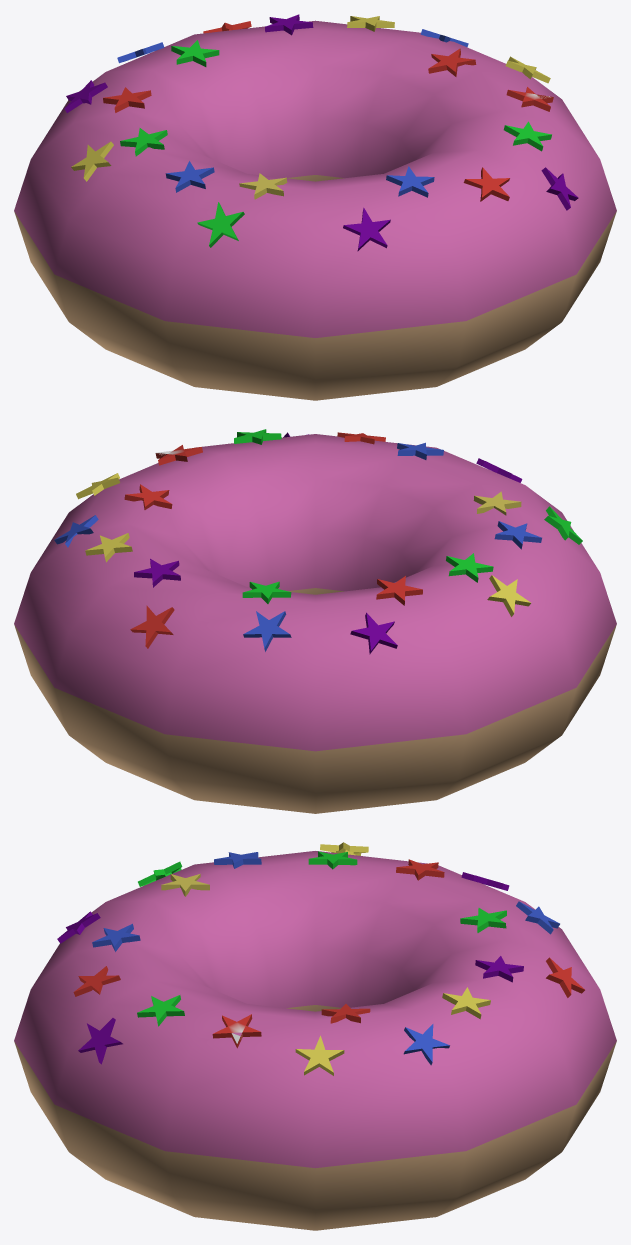
The model's file is DonutPowerUp.fbx.
The picture shows the model from 3 angles, top to bottom: view 1: azimuth 30°, elevation 25°; view 2: azimuth 150°, elevation 25°; view 3: azimuth 270°, elevation 25°; orthographic projection.
Parts seen in each view (by area): view 1: DonutsPowerup; view 2: DonutsPowerup; view 3: DonutsPowerup.
Part boxes in pixels (<box>): DonutsPowerup: <box>14,14,616,400</box>; DonutsPowerup: <box>14,429,616,813</box>; DonutsPowerup: <box>14,842,616,1230</box>.
Bounding box in the file's own units: 88.19 × 34.03 × 88.19.
